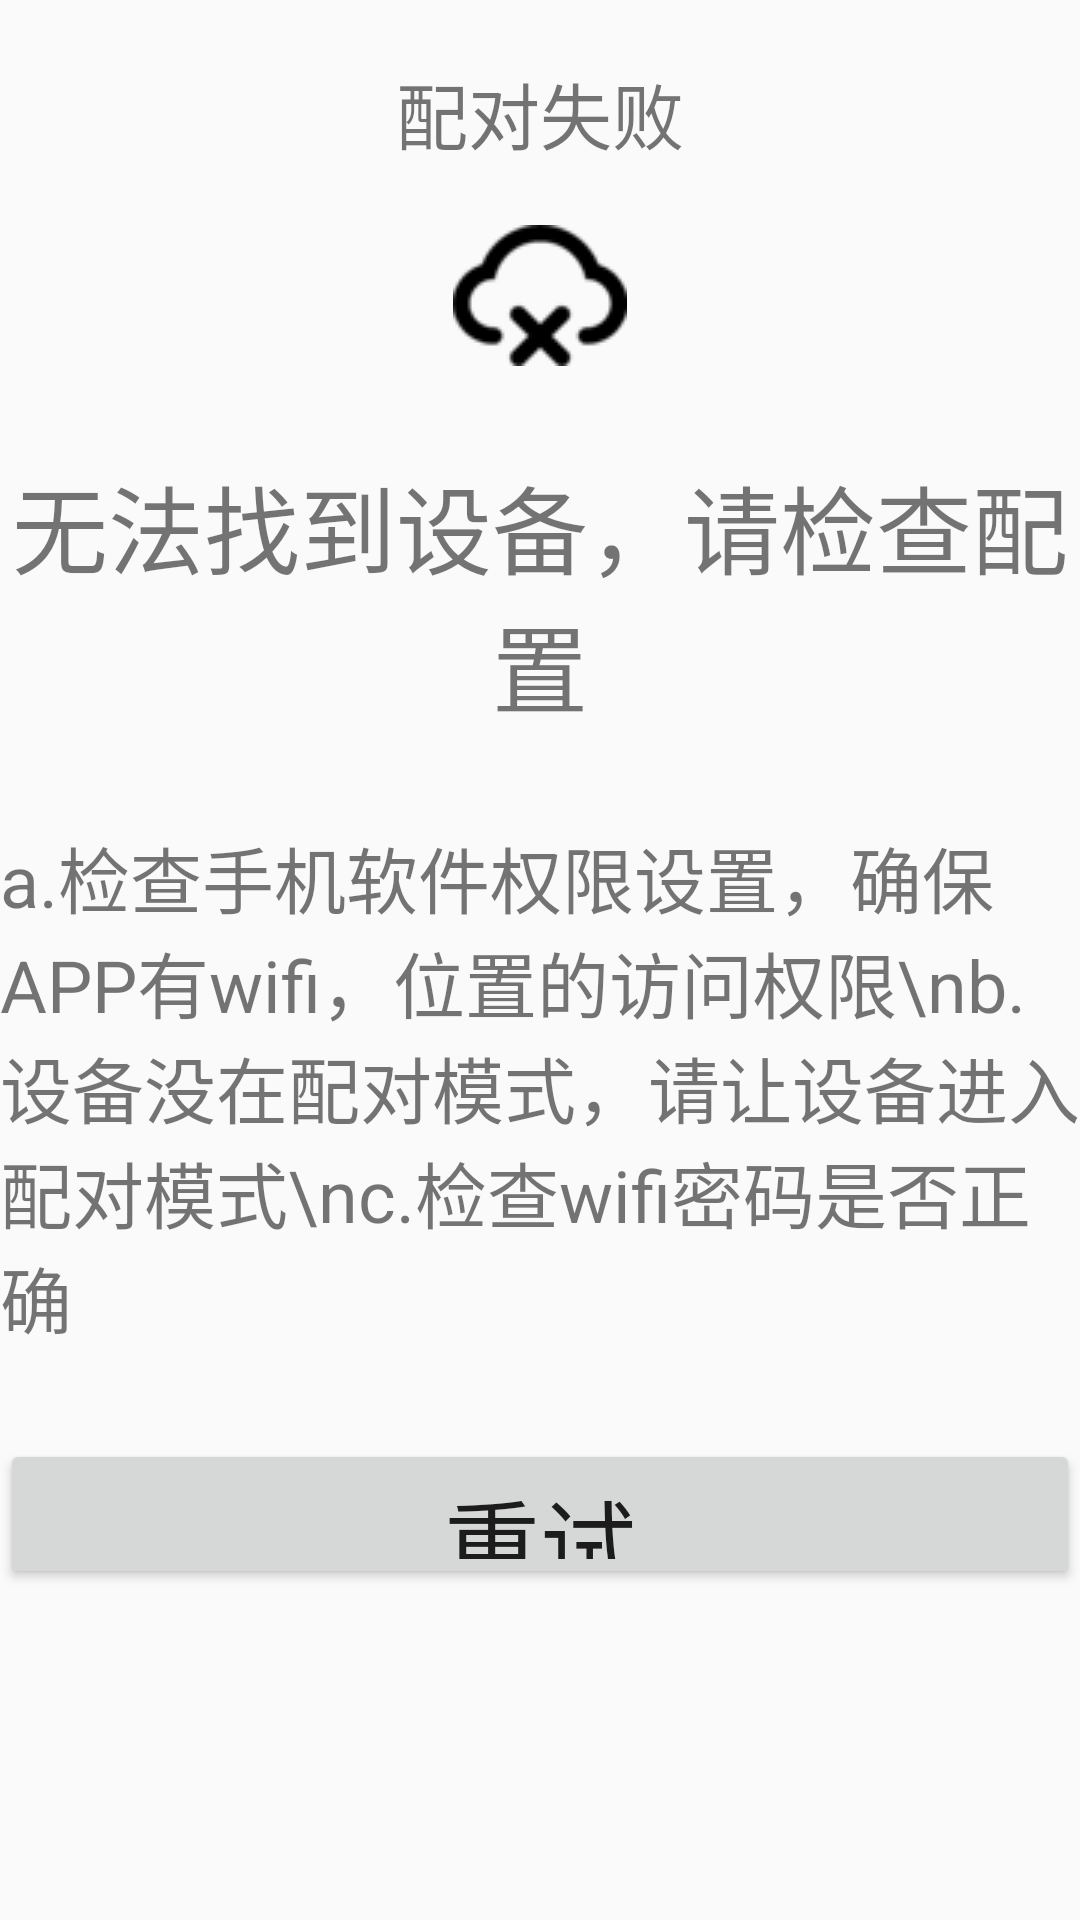

Locate icon controls on the screen. Image size 1080×1920, boxes as (x1, y1, x2, y2).
fail: (453, 225, 627, 366)
